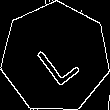L_NW: (28, 28, 82, 87)
